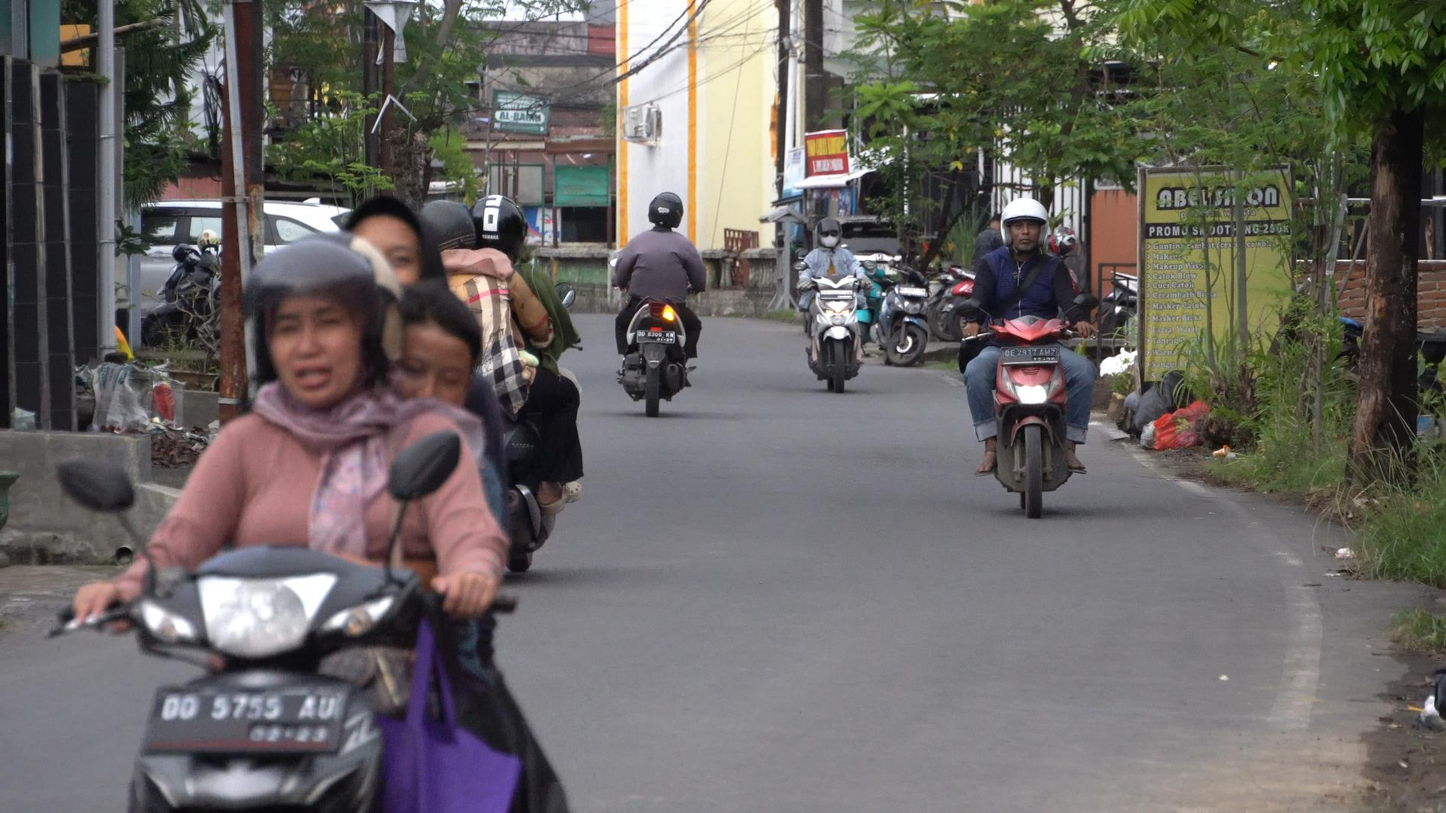number-plate: (140, 682, 346, 757), (1000, 344, 1062, 364)
